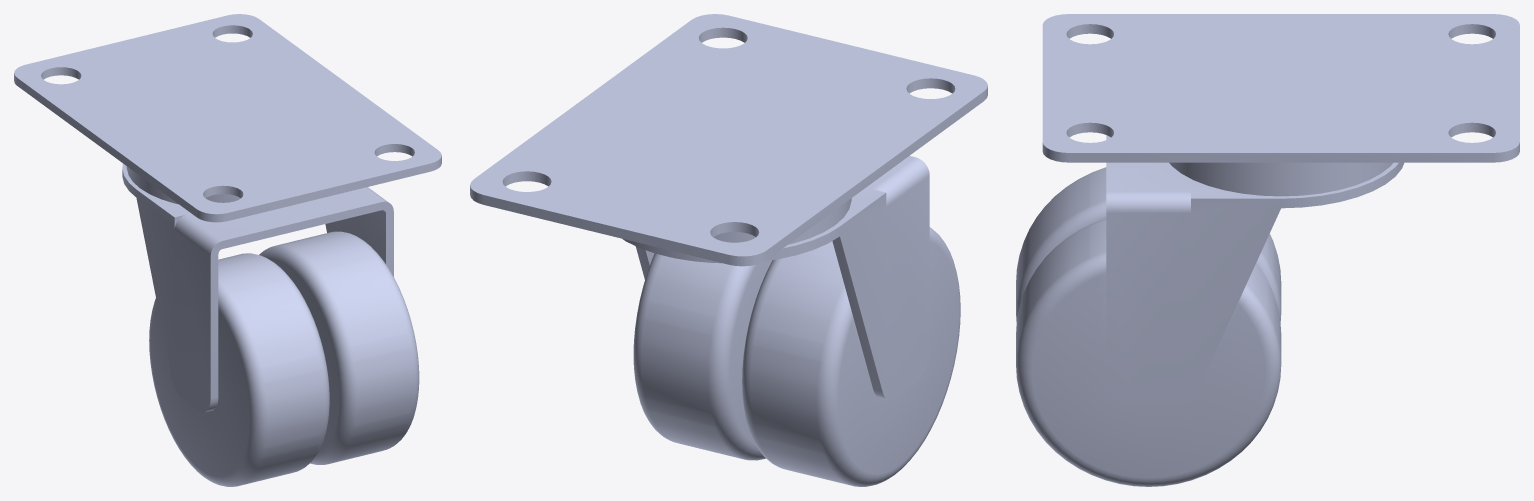
File: C_wheel_2_WS_1.dae
3 views of the same model, side by side, from view 1: azimuth 30°, elevation 25°; view 2: azimuth 150°, elevation 25°; view 3: azimuth 270°, elevation 25° (orthographic). The views are drawn at different scales.
Parts seen in each view (by area): view 1: node0; view 2: node0; view 3: node0.
Boxes of the visible parts, box(x1,y1,x2,y2) form: node0: box(14, 14, 441, 486); node0: box(470, 14, 987, 486); node0: box(1016, 14, 1519, 486).
Size of the model in its own units: 0.0496 by 0.06 by 0.076.
